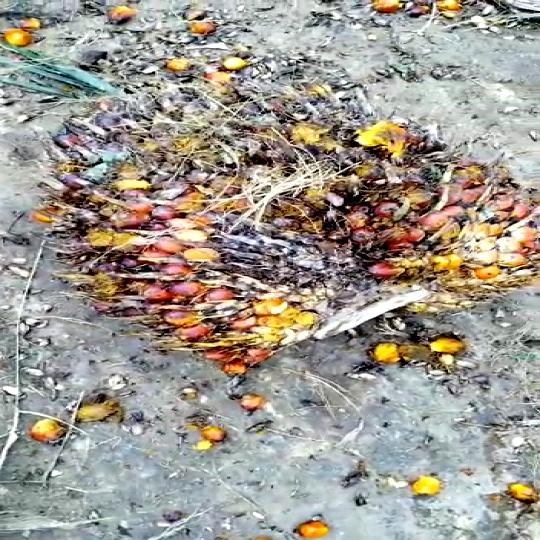masak: (19, 76, 540, 352)
